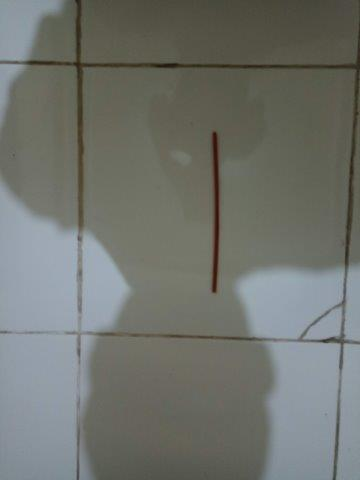sedotan: (211, 132, 219, 292)
